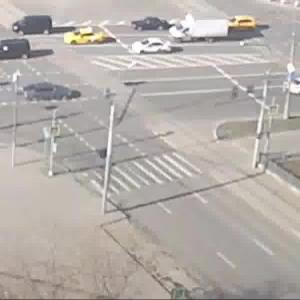car: (172, 16, 223, 43), (23, 85, 79, 108), (65, 26, 113, 49), (128, 16, 171, 35), (1, 39, 38, 59), (17, 18, 56, 36), (228, 16, 259, 34), (135, 40, 168, 55)
